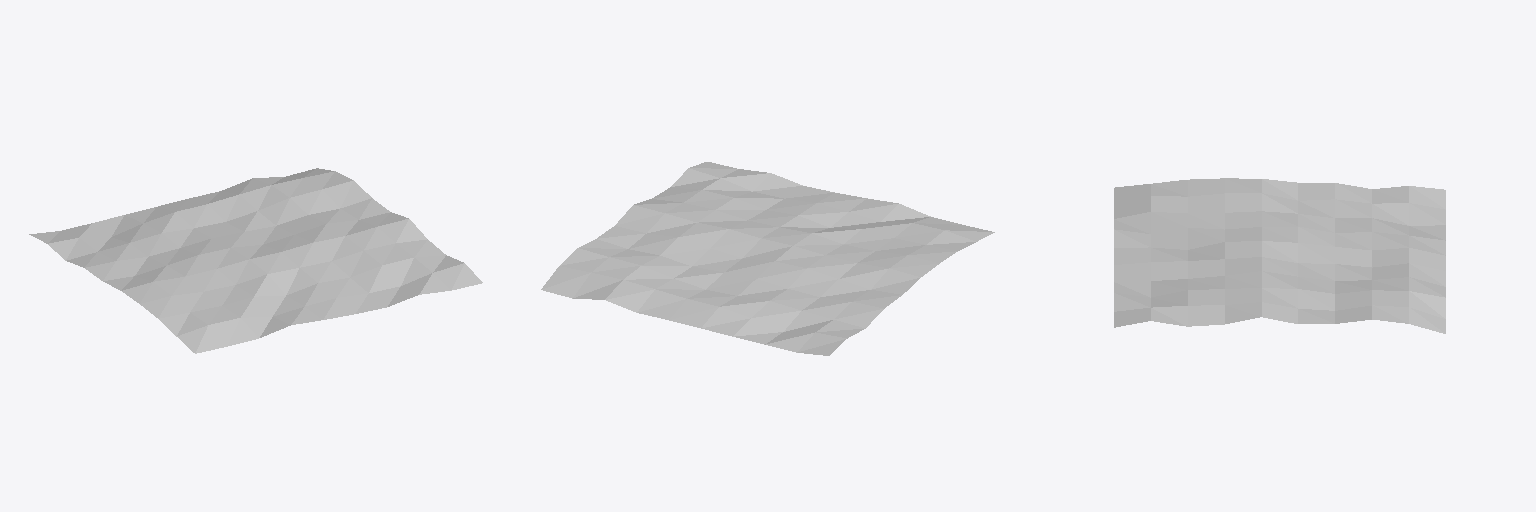
File: terrain.obj
3 views of the same model, side by side, from view 1: azimuth 30°, elevation 25°; view 2: azimuth 150°, elevation 25°; view 3: azimuth 270°, elevation 25° (orthographic).
Parts seen in each view (by area): view 1: Grid; view 2: Grid; view 3: Grid.
Boxes of the visible parts, x1=… form: Grid: x1=29, y1=168, x2=482, y2=353; Grid: x1=541, y1=162, x2=994, y2=355; Grid: x1=1114, y1=178, x2=1445, y2=333.
Bounding box in the file's own units: 20000 × 1211 × 20000.